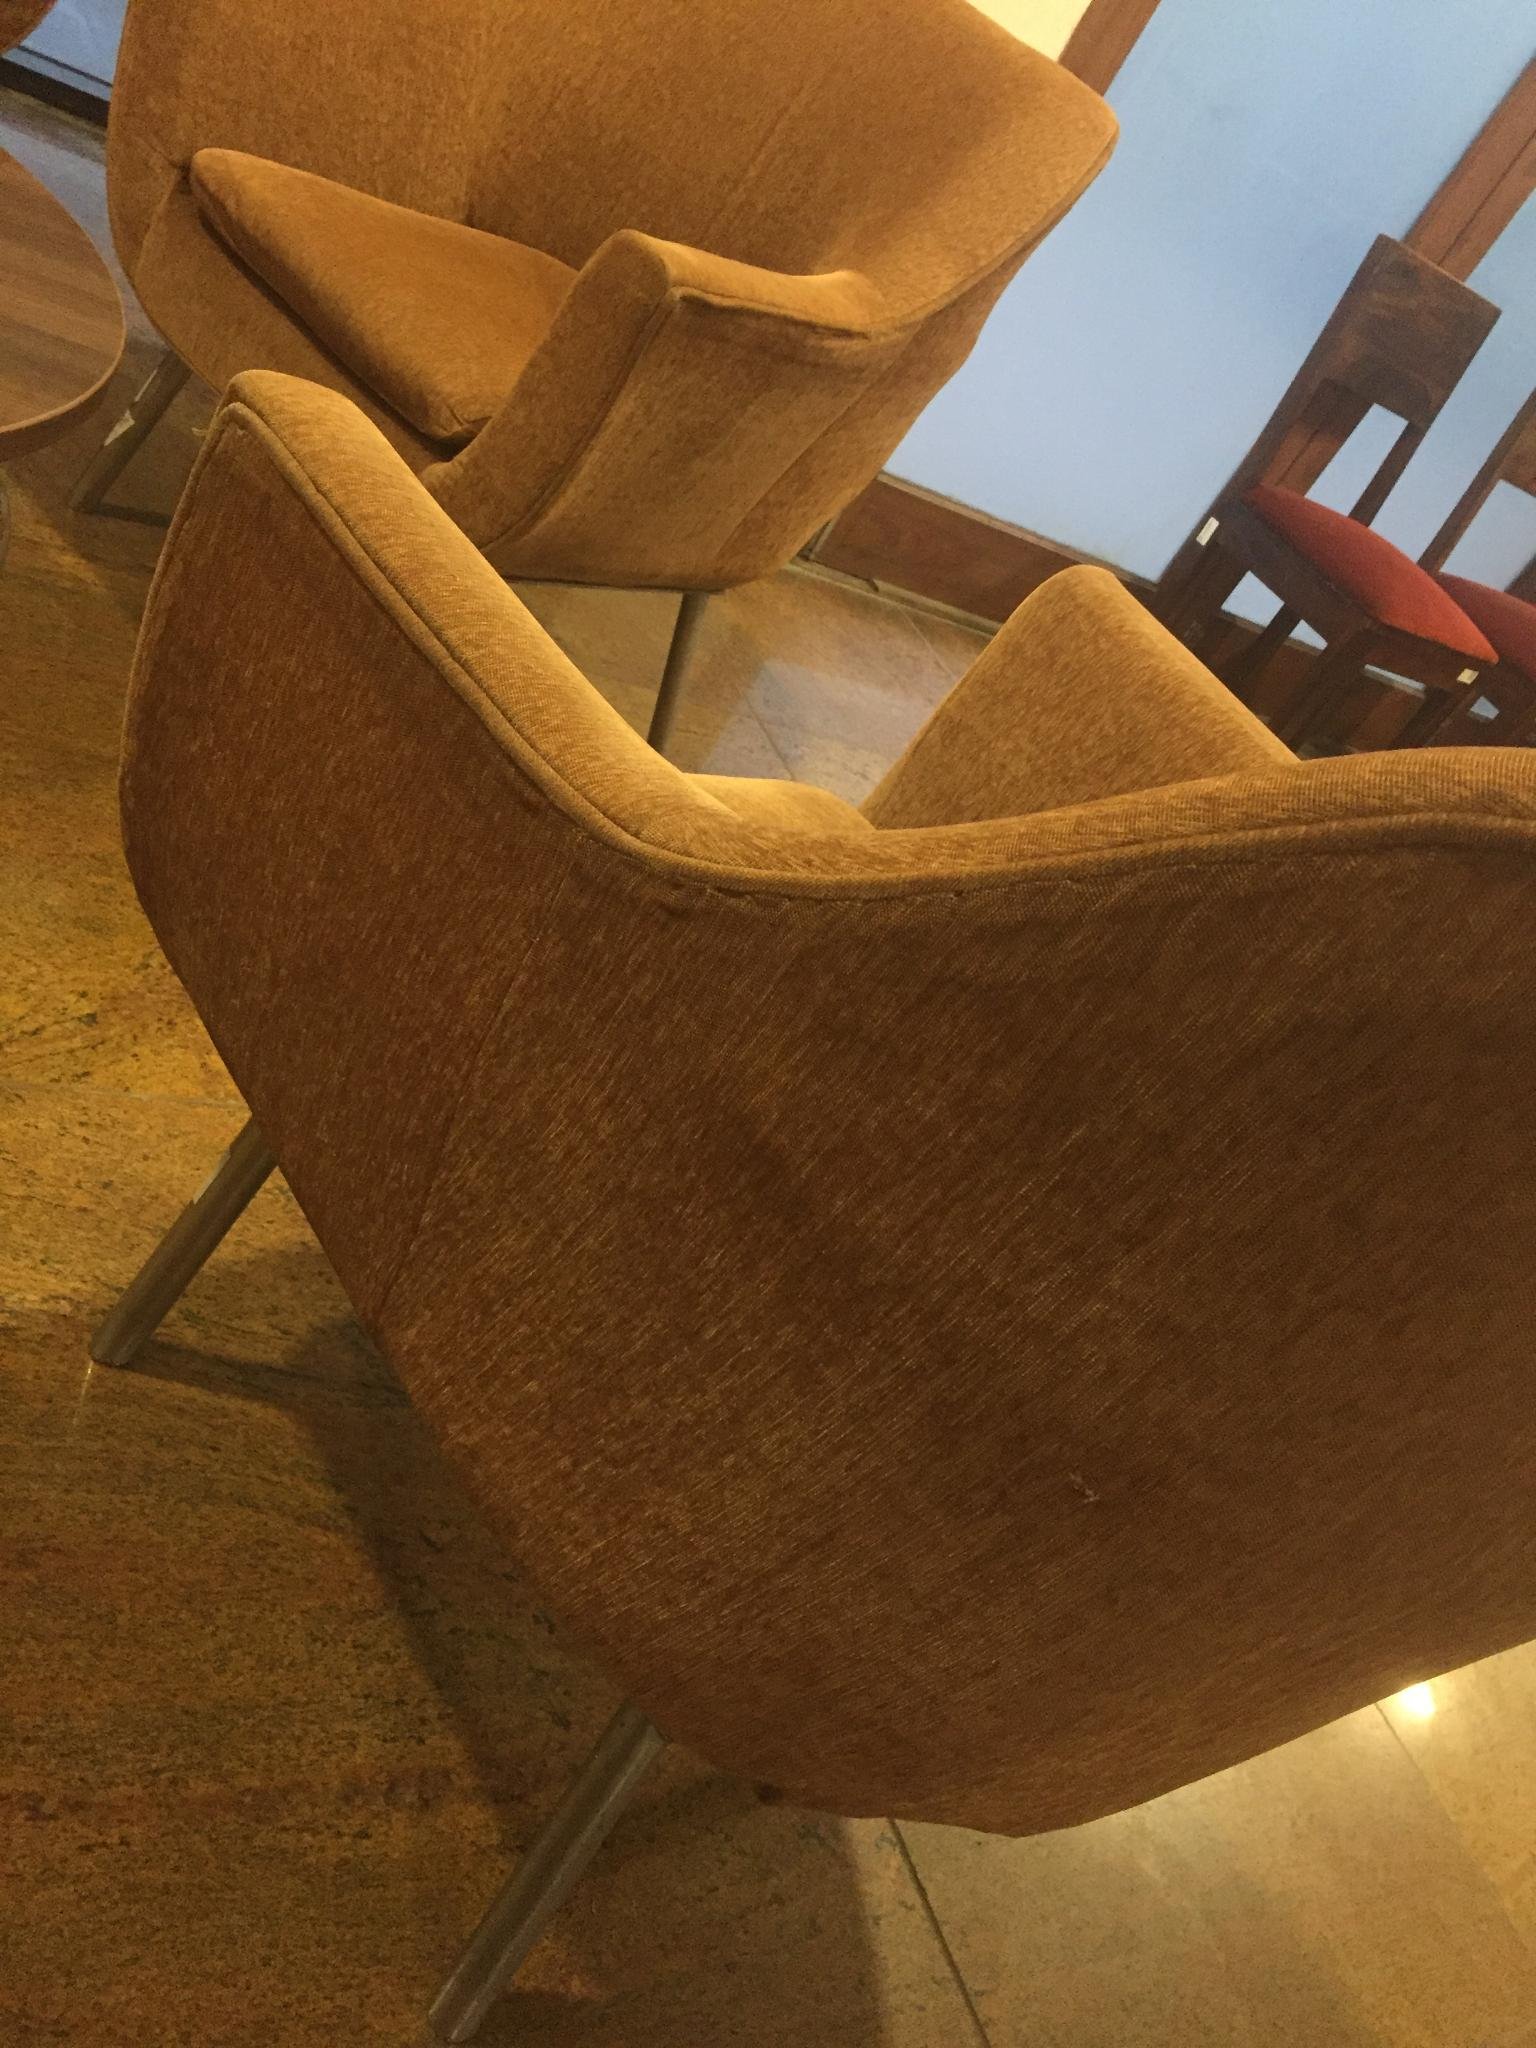chair: (87, 364, 1534, 2042), (69, 0, 1121, 750), (1141, 235, 1531, 756)
